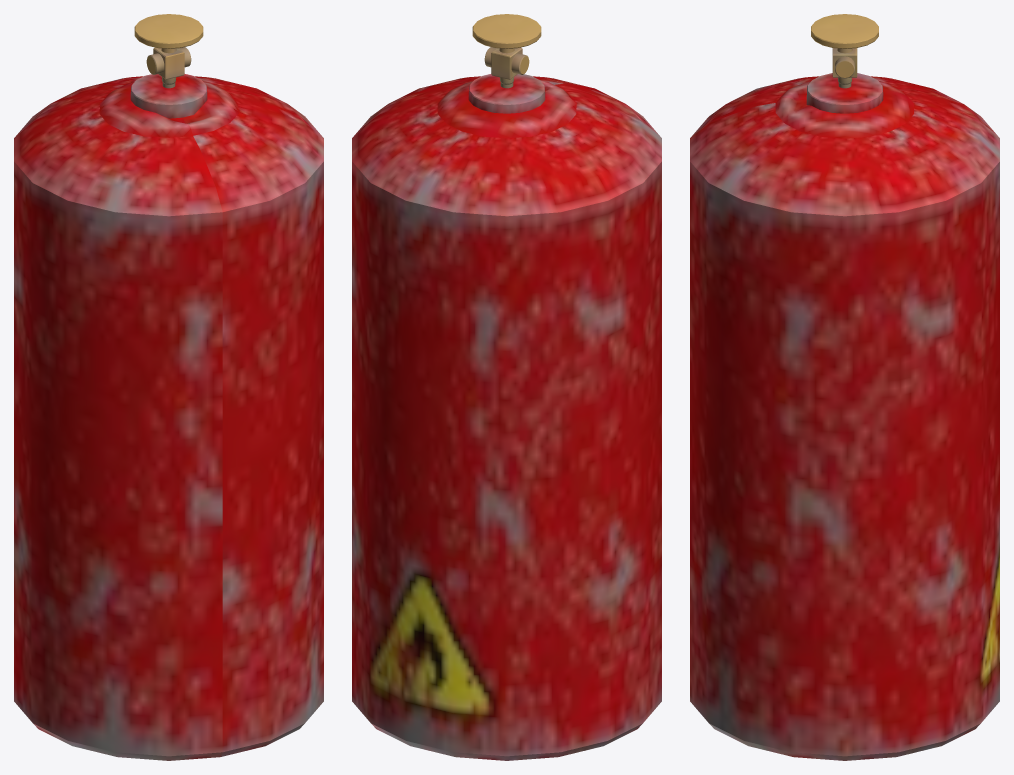
Rendered from gas-bottle-red.glb.
The picture shows the model from 3 angles, left to right: view 1: azimuth 30°, elevation 25°; view 2: azimuth 150°, elevation 25°; view 3: azimuth 270°, elevation 25°; orthographic projection.
Parts seen in each view (by area): view 1: GasBottle__0; view 2: GasBottle__0; view 3: GasBottle__0.
Part boxes in pixels (left/top/right/bottom): GasBottle__0: left=14, top=14, right=323, bottom=760; GasBottle__0: left=352, top=14, right=661, bottom=760; GasBottle__0: left=690, top=14, right=999, bottom=760.
Bounding box in the file's own units: 0.2466 × 0.6 × 0.2428.
Materials: 1 (1 with a texture image).
